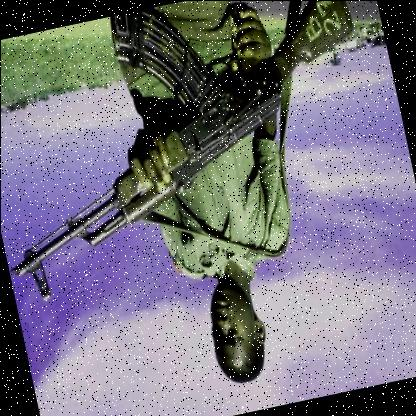rifle: (0, 0, 389, 287)
